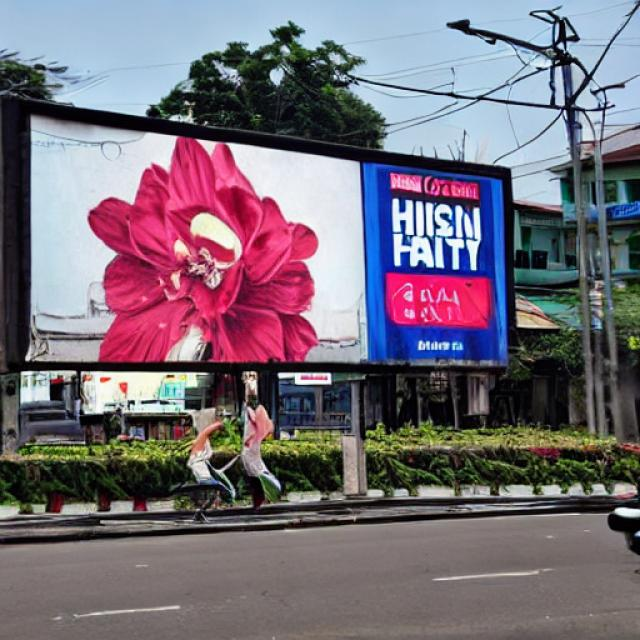Billboard: (0, 101, 516, 373)
